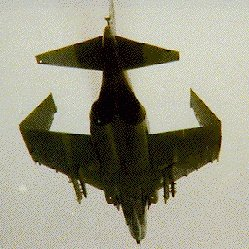F4: (17, 1, 222, 249)
